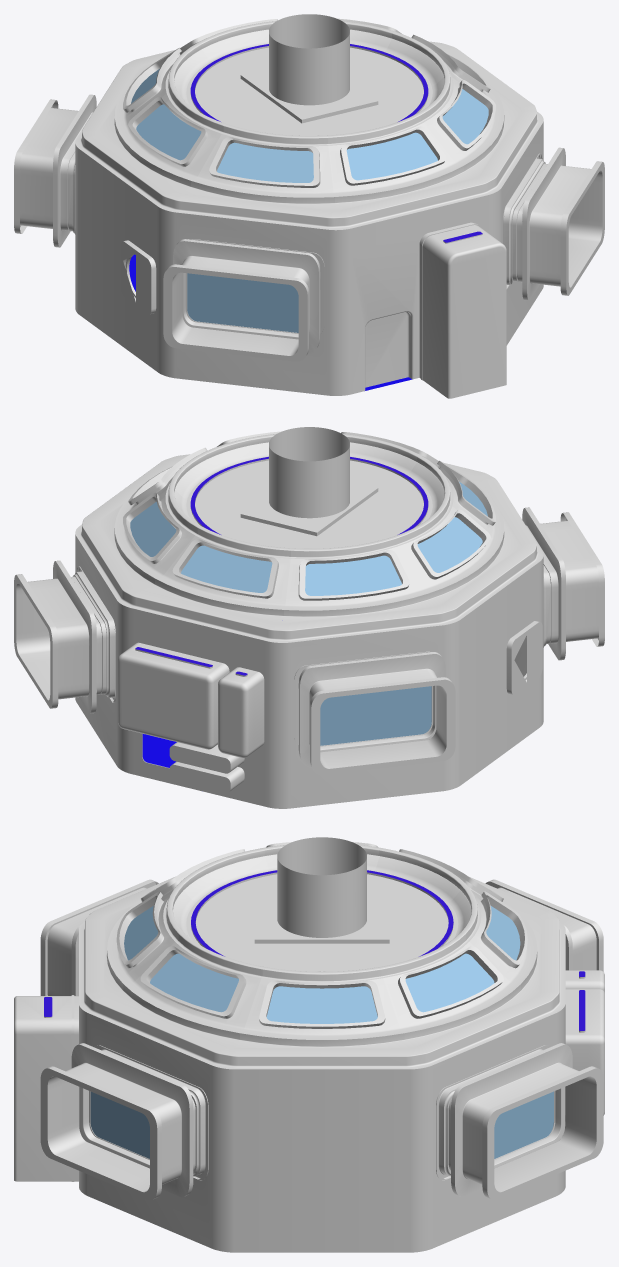
The model's file is SpaceStation_ModuleTest_Hydroponics_6x6.fbx.
3 views of the same model, one above another, from view 1: azimuth 30°, elevation 25°; view 2: azimuth 150°, elevation 25°; view 3: azimuth 270°, elevation 25° (orthographic). The views are drawn at different scales.
Parts seen in each view (by area): view 1: Walls_Plain.001, Ceiling_Windowed.003, Walls_Windows, Ceiling_InnerFace; view 2: Walls_Plain.001, Ceiling_Windowed.003, Walls_Windows, Ceiling_InnerFace, Floor.002; view 3: Walls_Plain.001, Ceiling_Windowed.003, Walls_Windows, Ceiling_InnerFace.
Boxes of the visible parts, box(x1,y1,x2,y2) form: Walls_Plain.001: box(75, 121, 543, 398); Ceiling_Windowed.003: box(75, 18, 543, 230); Walls_Windows: box(14, 94, 604, 361); Ceiling_InnerFace: box(186, 14, 432, 135); Walls_Plain.001: box(75, 534, 543, 808); Ceiling_Windowed.003: box(75, 431, 543, 642); Walls_Windows: box(14, 507, 604, 774); Ceiling_InnerFace: box(186, 427, 432, 548); Floor.002: box(142, 734, 176, 767); Walls_Plain.001: box(14, 970, 604, 1252); Ceiling_Windowed.003: box(79, 842, 565, 1069); Walls_Windows: box(40, 879, 603, 1200); Ceiling_InnerFace: box(186, 837, 458, 971).
Size of the model in its own units: 752 by 533 by 789.
